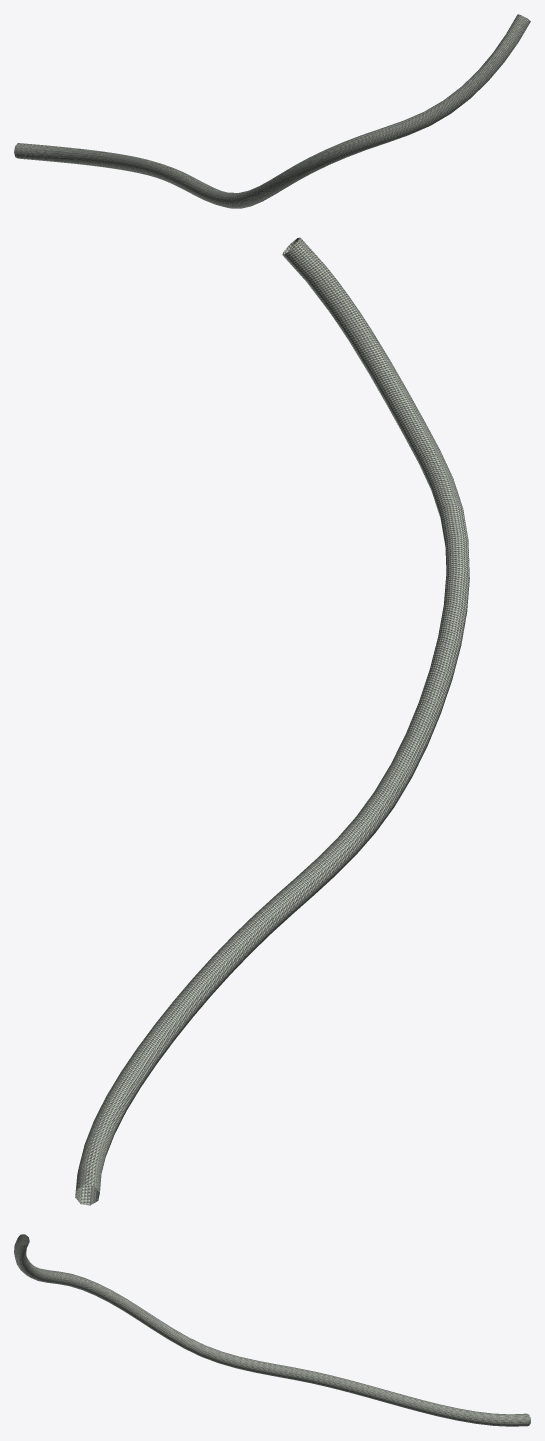
The model's file is microtubule29.fbx.
3 views of the same model, one above another, from view 1: azimuth 30°, elevation 25°; view 2: azimuth 150°, elevation 25°; view 3: azimuth 270°, elevation 25° (orthographic). The views are drawn at different scales.
Visible parts, largest first — view 1: microtubule29; view 2: microtubule29; view 3: microtubule29.
Boxes of the visible parts, x1,y1,x2,y2 form: microtubule29: (14,14,530,208); microtubule29: (75,237,469,1205); microtubule29: (14,1234,530,1426).
Bounding box in the file's own units: 2168 × 3422 × 6102.
1 material, 1 textured.
